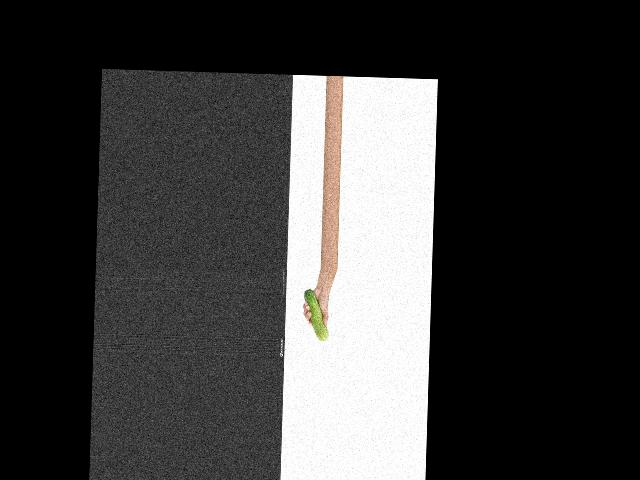cucumber: (302, 288, 330, 340)
